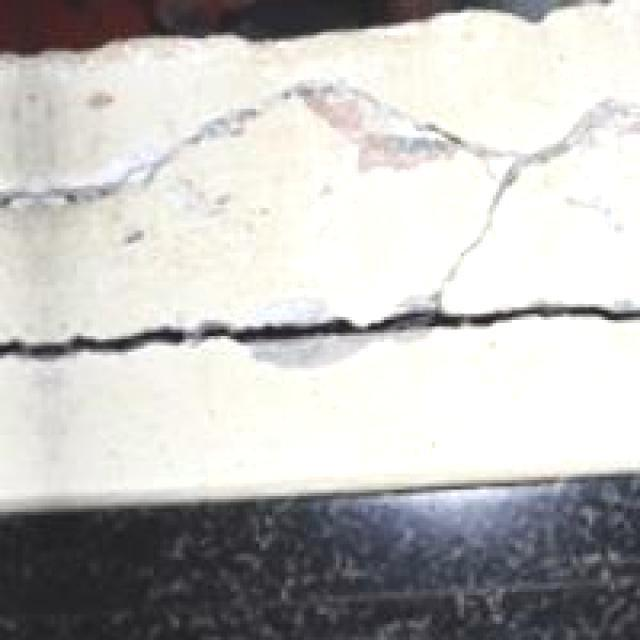crack: (0, 266, 640, 388)
